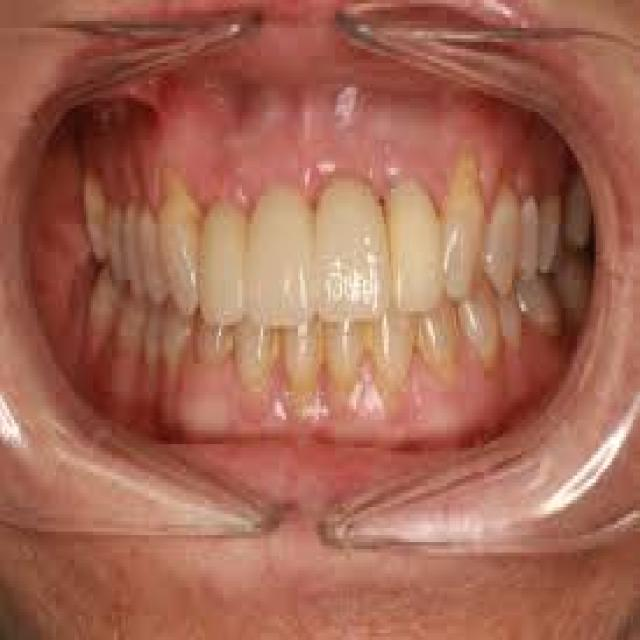tooth: (316, 175, 391, 329), (242, 189, 319, 325), (386, 164, 447, 308), (196, 189, 249, 322), (440, 147, 486, 297), (154, 182, 202, 311), (482, 175, 524, 297), (458, 273, 501, 374), (279, 308, 328, 392), (412, 276, 456, 364), (347, 336, 407, 395), (137, 196, 168, 308), (235, 297, 272, 374), (198, 297, 230, 367), (519, 189, 540, 273)
